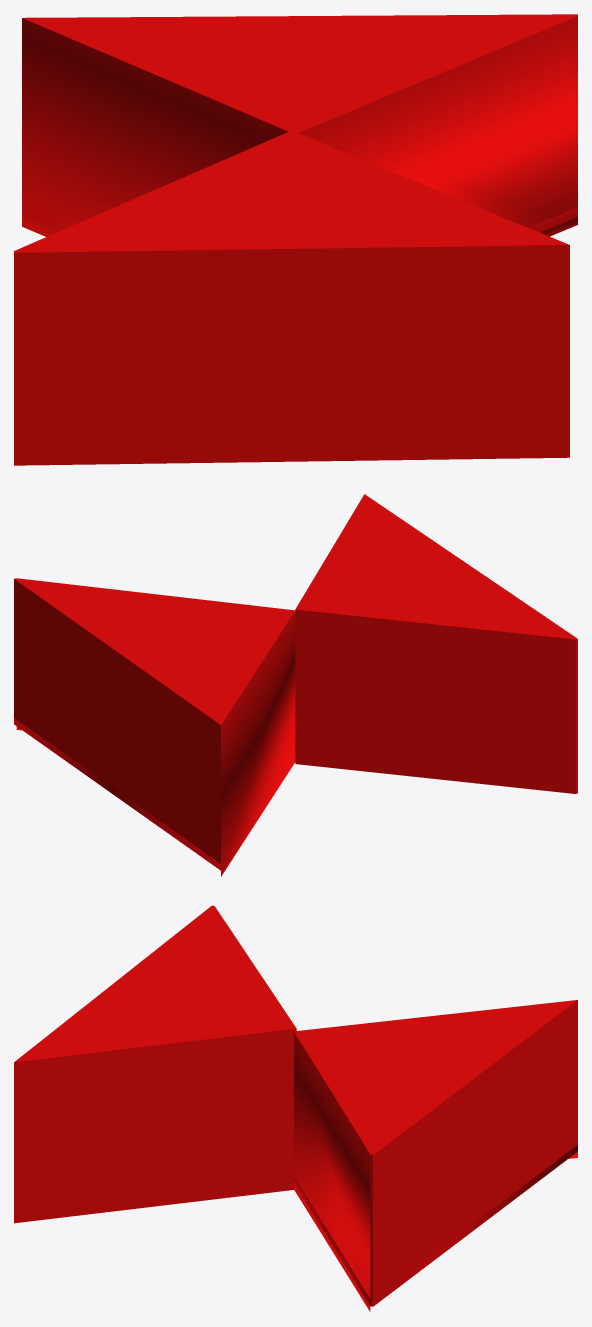
Rendered from Rune1NoStone.fbx.
3 renders of one model, top to bottom at view 1: azimuth 30°, elevation 25°; view 2: azimuth 150°, elevation 25°; view 3: azimuth 270°, elevation 25°, orthographic. The views are drawn at different scales.
Visible parts, largest first — view 1: Cube.004, Cube.005; view 2: Cube.004, Cube.005; view 3: Cube.004, Cube.005.
Boxes of the visible parts, bbox=[...] form: Cube.004: bbox=[14, 130, 569, 465]; Cube.005: bbox=[22, 14, 577, 236]; Cube.004: bbox=[295, 494, 577, 793]; Cube.005: bbox=[14, 578, 295, 876]; Cube.004: bbox=[14, 905, 296, 1223]; Cube.005: bbox=[294, 1000, 577, 1311].
Bounding box in the file's own units: 120 × 36.34 × 115.
